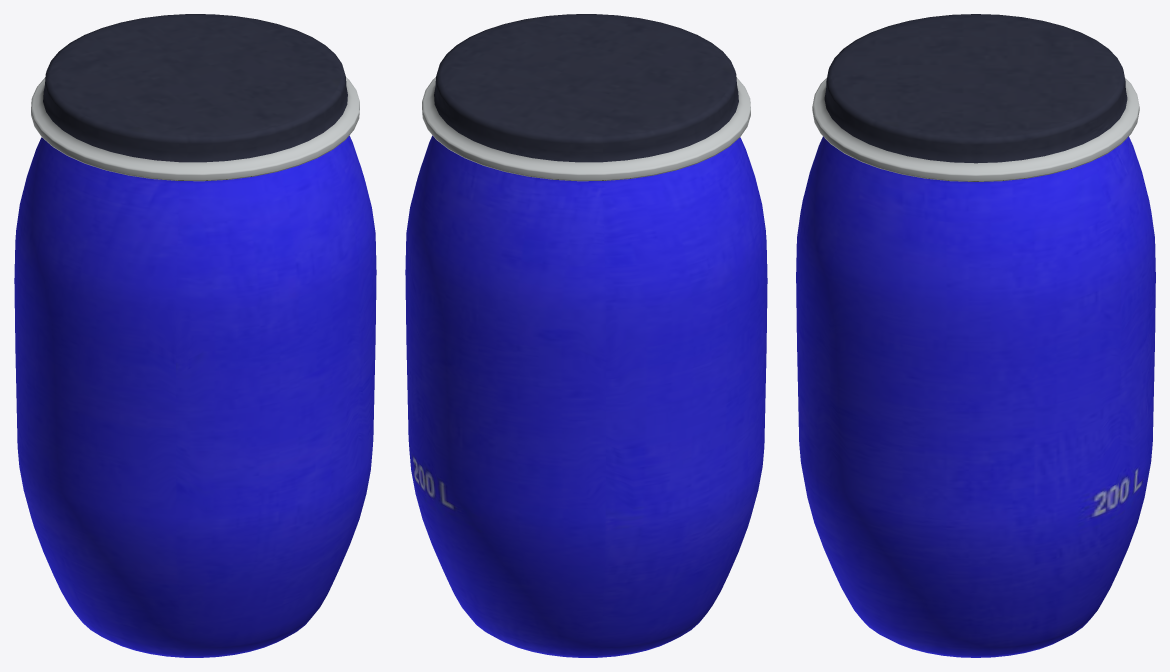
The model's file is water_drum_optimised.glb.
3 views of the same model, side by side, from view 1: azimuth 30°, elevation 25°; view 2: azimuth 150°, elevation 25°; view 3: azimuth 270°, elevation 25° (orthographic).
Bounding box in the file's own units: 0.0242 × 0.0398 × 0.024.
3 materials, 3 textured.
